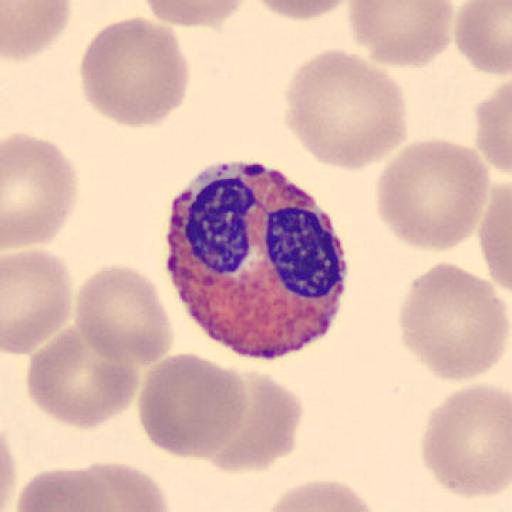RBC: (283, 47, 410, 172), (396, 260, 511, 384), (374, 137, 491, 254), (78, 16, 192, 128), (25, 324, 140, 431), (138, 350, 249, 460), (198, 365, 304, 474), (74, 262, 176, 368), (419, 383, 512, 498), (2, 130, 80, 250), (2, 248, 73, 357), (346, 1, 454, 68), (69, 460, 171, 512), (13, 465, 109, 512), (453, 0, 512, 76), (259, 476, 381, 512), (2, 0, 72, 62), (478, 181, 512, 299), (475, 77, 512, 180), (141, 0, 249, 30), (250, 0, 354, 21), (0, 430, 18, 512)
WBC: (164, 158, 348, 362)
